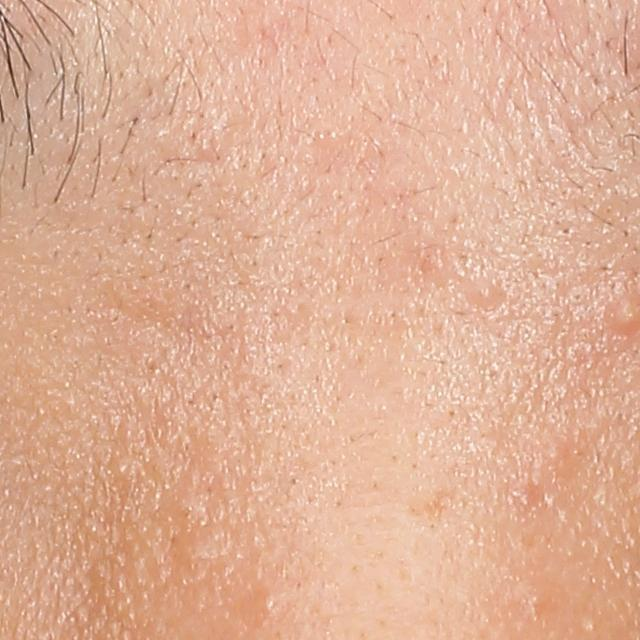comedo: (466, 280, 499, 312), (255, 592, 277, 614)
